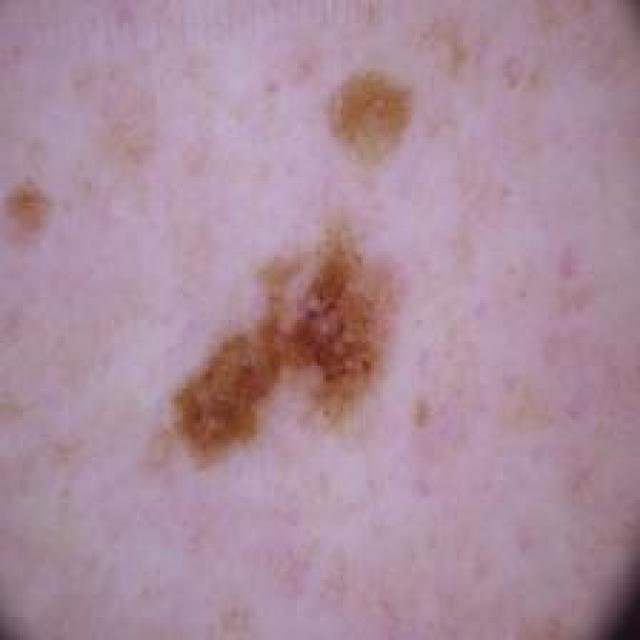Cancer: (163, 208, 403, 466)
